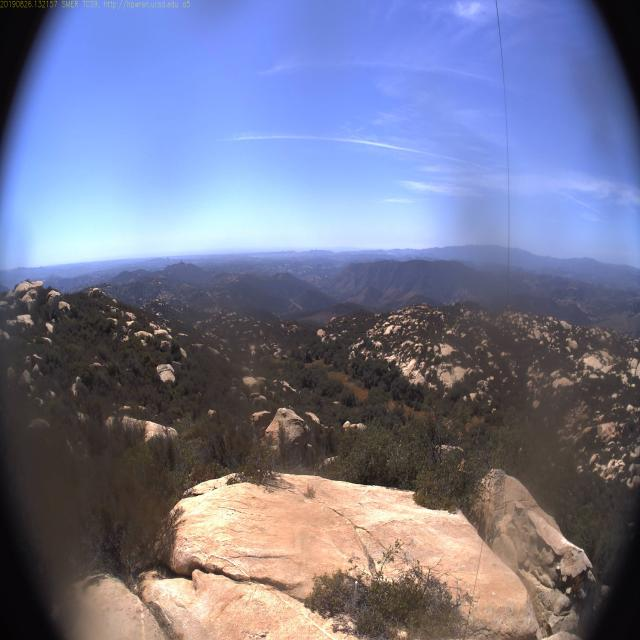smoke: (385, 248, 395, 256)
